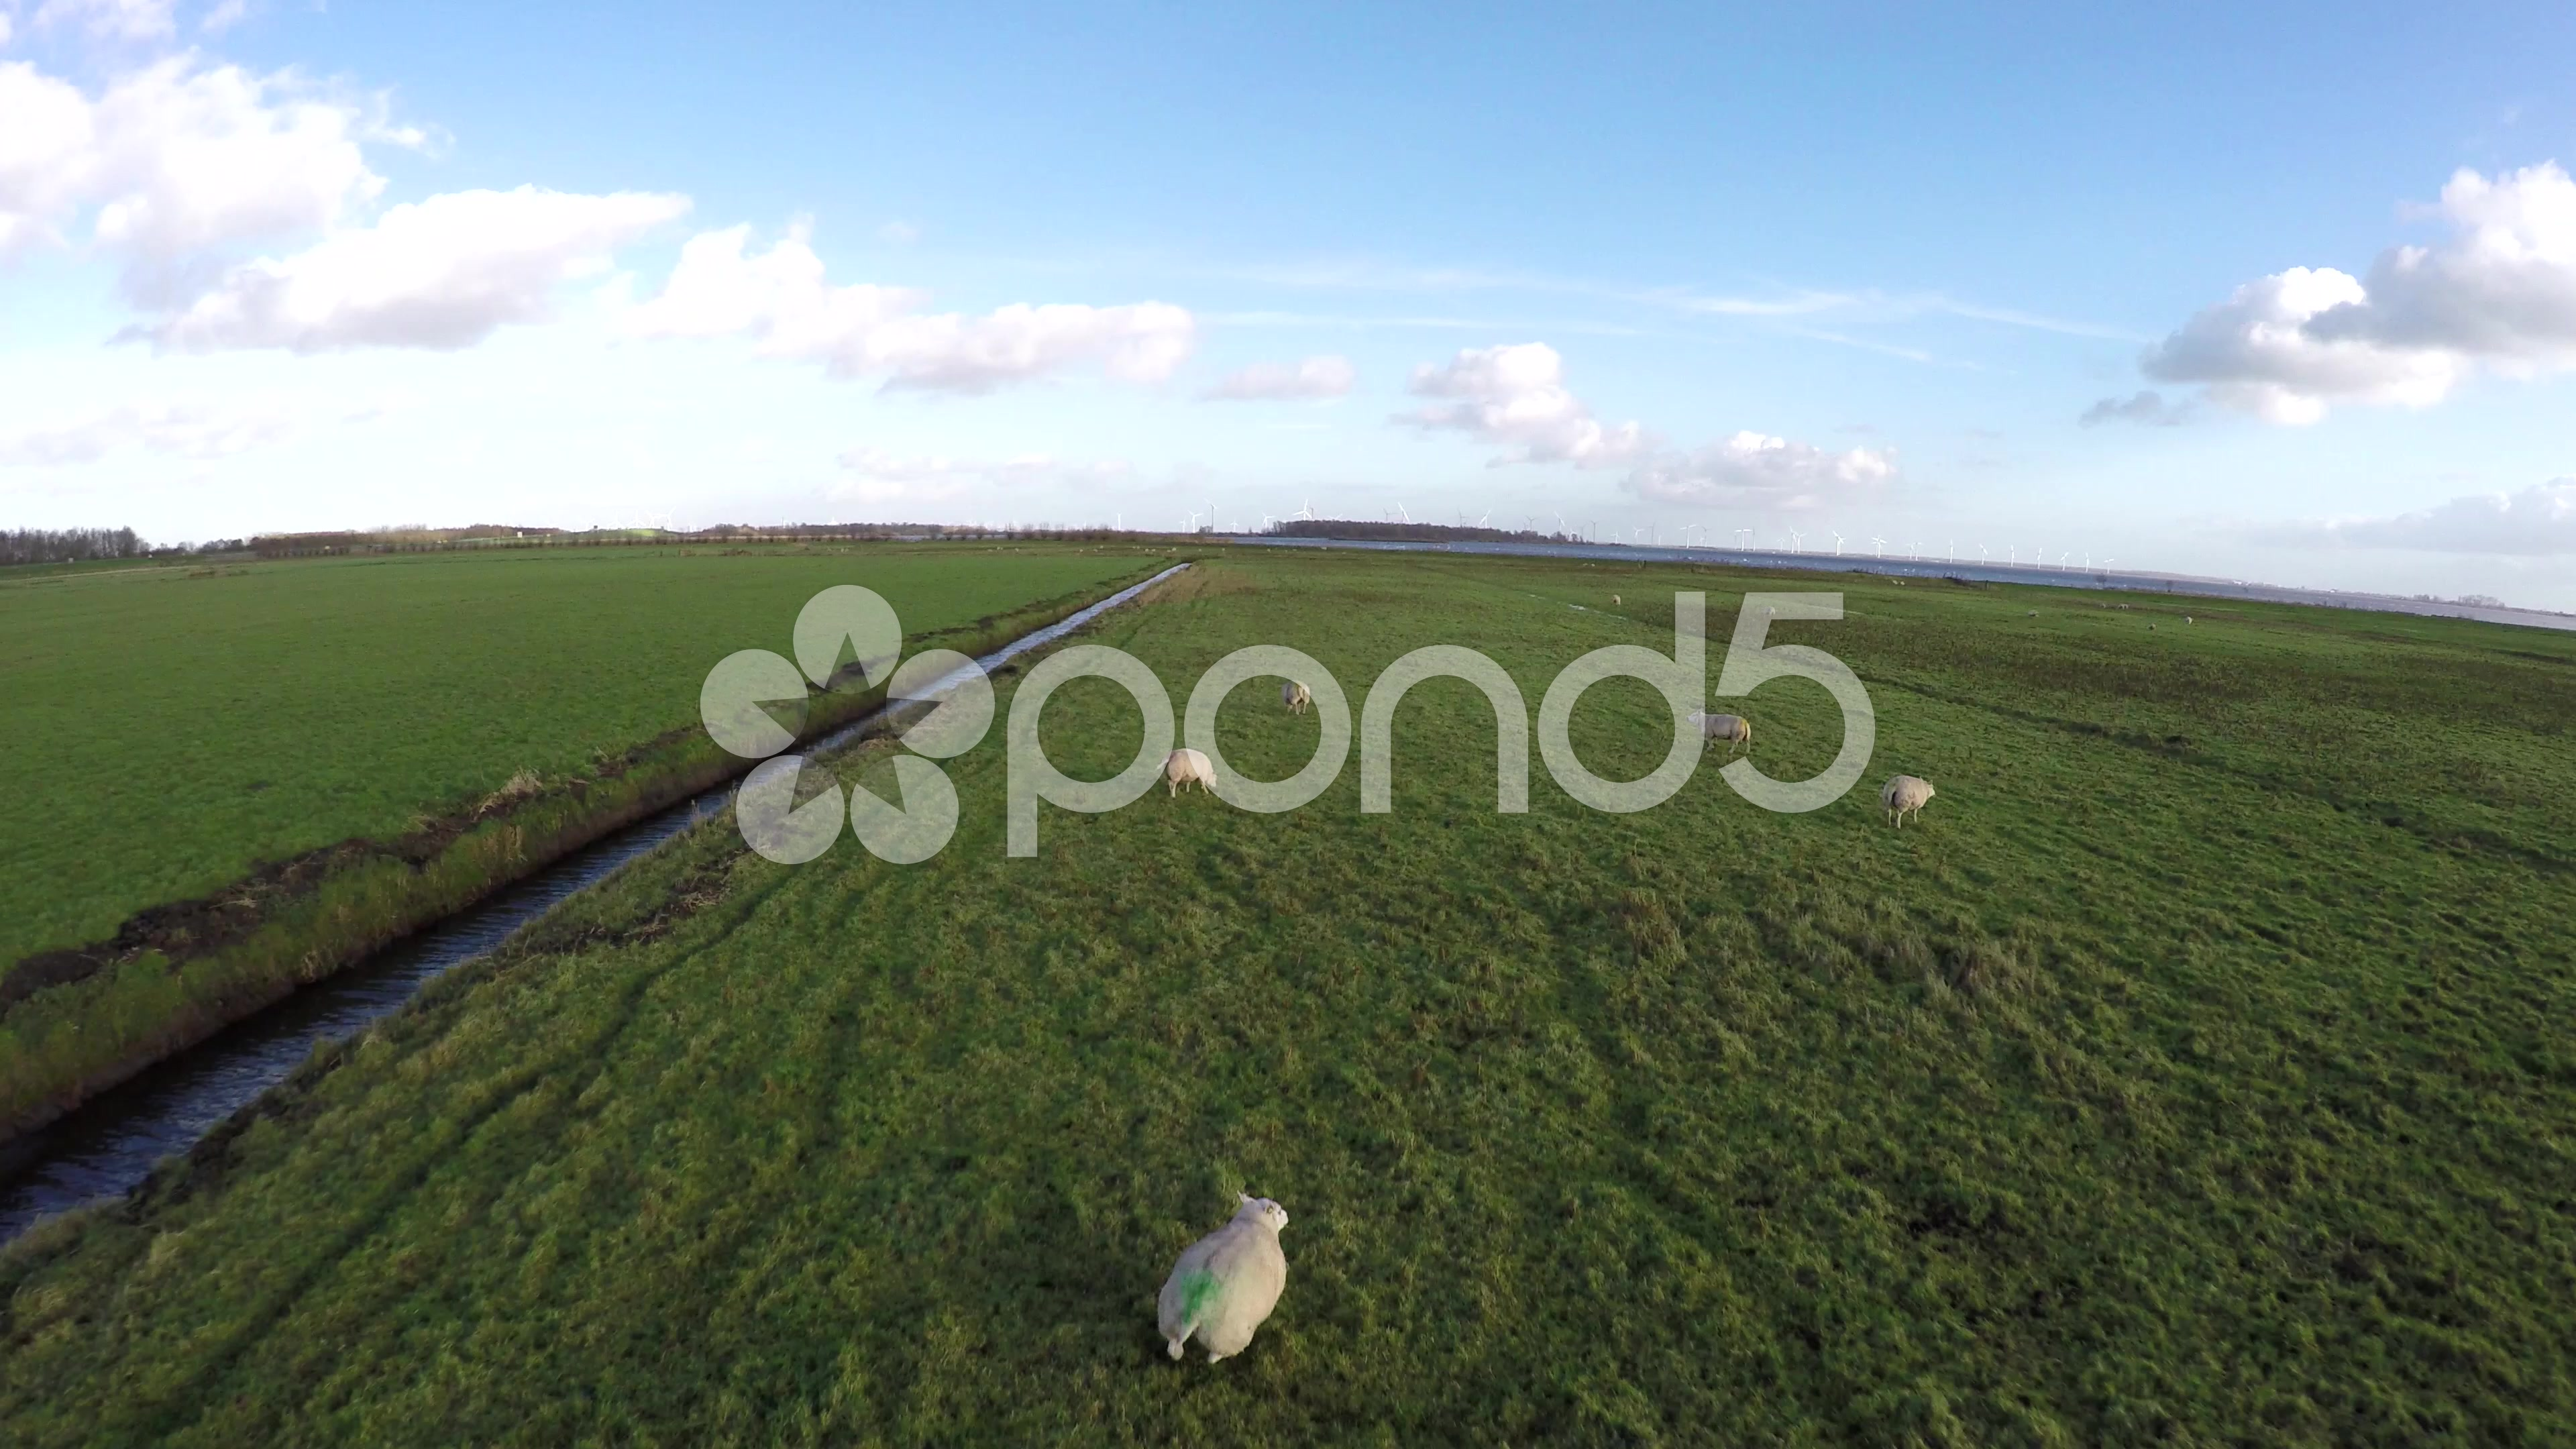sheep: (1157, 1189, 1292, 1366), (1686, 706, 1753, 750), (1161, 747, 1214, 800), (1888, 775, 1937, 824), (1281, 674, 1315, 708), (1610, 591, 1622, 609)
